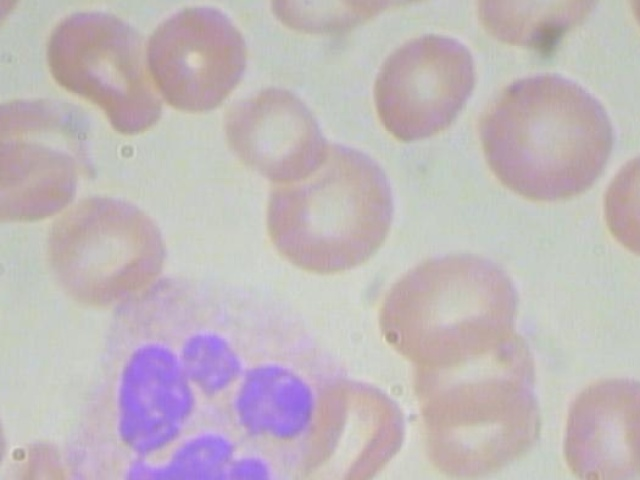RBC: (468, 67, 625, 210), (370, 238, 527, 370), (262, 135, 392, 280), (40, 3, 164, 140), (40, 187, 172, 309), (363, 30, 486, 150), (142, 0, 250, 121), (223, 74, 325, 188), (562, 361, 640, 480), (0, 134, 79, 228), (261, 0, 400, 45), (0, 381, 16, 480), (0, 0, 21, 54)
WBC: (69, 273, 360, 480)
